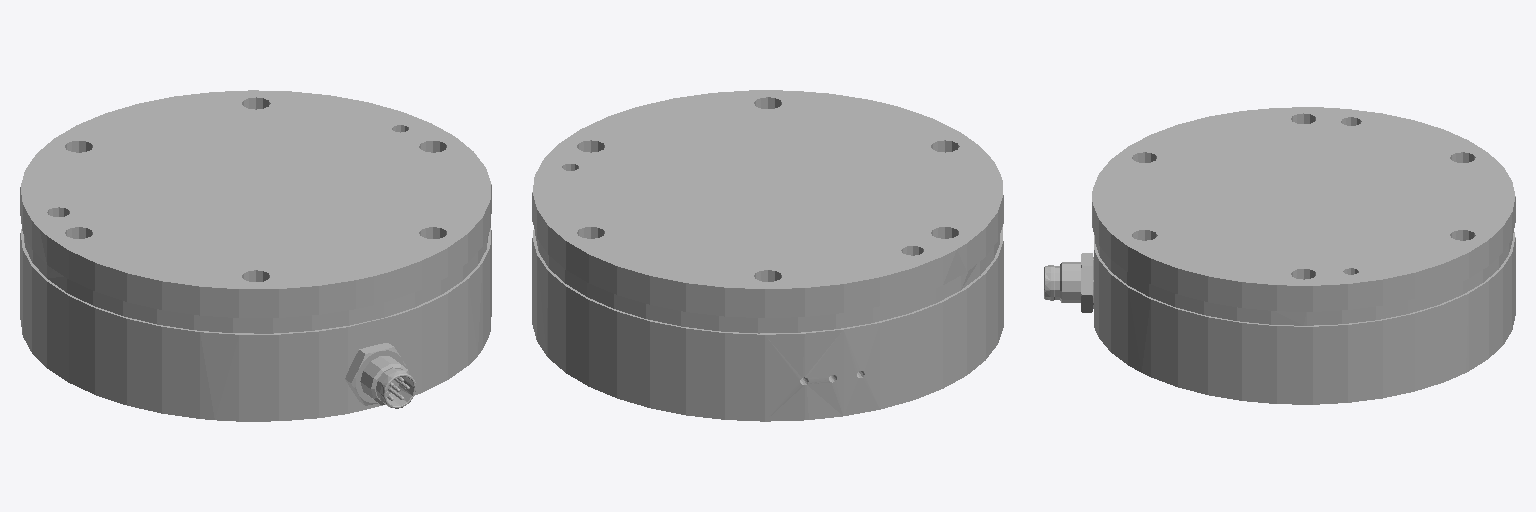
The robot description file, URDF, robot "force":
<?xml version="1.0" encoding="utf-8"?>
<!-- This URDF was automatically created by SolidWorks to URDF Exporter! Originally created by Stephen Brawner (brawner@gmail.com) 
     Commit Version: 1.6.0-1-g15f4949  Build Version: 1.6.7594.29634
     For more information, please see http://wiki.ros.org/sw_urdf_exporter -->
<robot
  name="force">
  <link
    name="base_link">
    <inertial>
      <origin
        xyz="-1.73820133878826E-05 -0.000125548538680832 -0.0126247821559445"
        rpy="0 0 0" />
      <mass
        value="0.00359836468905462" />
      <inertia
        ixx="1.70356572590167E-06"
        ixy="-1.31254272686545E-09"
        ixz="-6.93432638809789E-11"
        iyy="1.66890057950789E-06"
        iyz="-2.49156588179216E-09"
        izz="2.99082471652342E-06" />
    </inertial>
    <visual>
      <origin
        xyz="0 0 0"
        rpy="0 0 0" />
      <geometry>
        <mesh
          filename="package://force/meshes/base_link.STL" />
      </geometry>
      <material
        name="">
        <color
          rgba="0.752941176470588 0.752941176470588 0.752941176470588 1" />
      </material>
    </visual>
    <collision>
      <origin
        xyz="0 0 0"
        rpy="0 0 0" />
      <geometry>
        <mesh
          filename="package://force/meshes/base_link.STL" />
      </geometry>
    </collision>
  </link>
</robot>

--- What the picture shows (computed from the rendered views, not written in the file) ---
3 views of the same robot in one strip: view 1: azimuth 30°, elevation 25°; view 2: azimuth 150°, elevation 25°; view 3: azimuth 270°, elevation 25° (orthographic).
Robot: force — 1 links, 0 joints (none); root link base_link; default pose: every joint at zero.
Visible links, largest first — view 1: base_link; view 2: base_link; view 3: base_link.
Boxes of the visible links, <box> form: base_link: <box>20,90,491,421</box>; base_link: <box>532,90,1003,421</box>; base_link: <box>1044,107,1515,404</box>.
Size in the robot's own frame: 0.0819 by 0.0912 by 0.0254 metres.
Meshes: 1 distinct files referenced, 1 mesh visuals loaded (1 binary STL).
